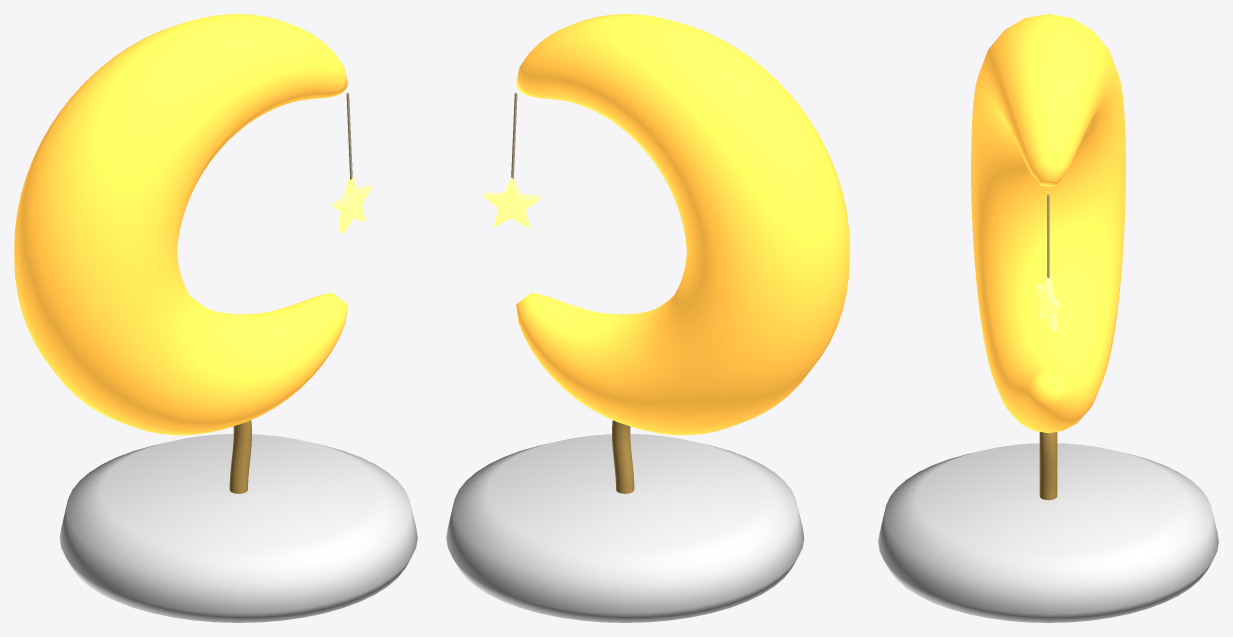
File: decor_moon_lamp.glb
The picture shows the model from 3 angles, left to right: view 1: azimuth 30°, elevation 25°; view 2: azimuth 150°, elevation 25°; view 3: azimuth 270°, elevation 25°; orthographic projection. The views are drawn at different scales.
Visible parts, largest first — view 1: Ml4_Moon.001, Ml4_Base.001, Ml4_Rod.001, Ml4_Star.001; view 2: Ml4_Moon.001, Ml4_Base.001, Ml4_Rod.001, Ml4_Star.001; view 3: Ml4_Moon.001, Ml4_Base.001, Ml4_Rod.001, Ml4_Star.001.
Part boxes in pixels (<box>): Ml4_Moon.001: <box>14,14,347,435</box>; Ml4_Base.001: <box>59,434,417,622</box>; Ml4_Rod.001: <box>229,420,251,493</box>; Ml4_Star.001: <box>332,177,371,233</box>; Ml4_Moon.001: <box>516,14,849,435</box>; Ml4_Base.001: <box>446,434,804,622</box>; Ml4_Rod.001: <box>612,420,634,493</box>; Ml4_Star.001: <box>483,177,540,228</box>; Ml4_Moon.001: <box>971,14,1125,433</box>; Ml4_Base.001: <box>878,443,1218,622</box>; Ml4_Rod.001: <box>1039,432,1057,500</box>; Ml4_Star.001: <box>1035,277,1061,331</box>.
Bounding box in the file's own units: 0.186 × 0.257 × 0.156.
